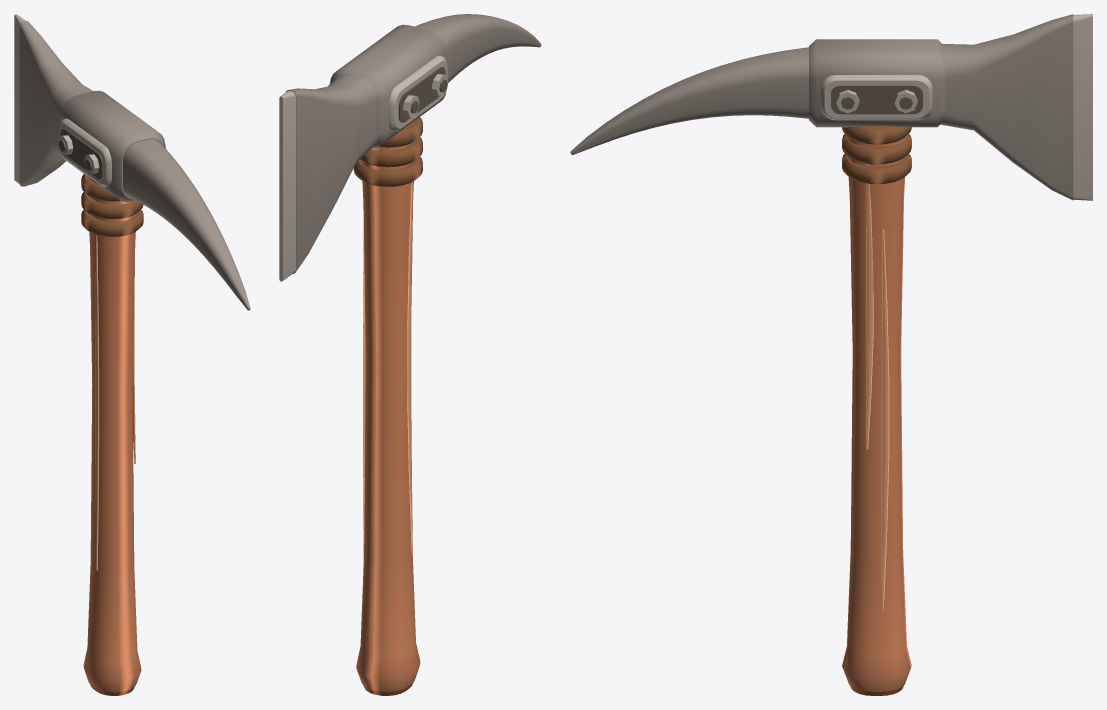
File: pioche_hache_pierre.glb
The picture shows the model from 3 angles, left to right: view 1: azimuth 30°, elevation 25°; view 2: azimuth 150°, elevation 25°; view 3: azimuth 270°, elevation 25°; orthographic projection. The views are drawn at different scales.
Visible parts, largest first — view 1: manche, lame, pic, oeil, bague; view 2: manche, lame, oeil, pic, bague; view 3: manche, lame, oeil, pic, bague.
Part boxes in pixels (bbox=[...]): manche: bbox=[83, 176, 141, 695]; lame: bbox=[14, 14, 92, 186]; pic: bbox=[123, 139, 250, 310]; oeil: bbox=[58, 90, 166, 202]; bague: bbox=[81, 174, 143, 236]; manche: bbox=[356, 120, 420, 695]; lame: bbox=[279, 73, 377, 281]; oeil: bbox=[329, 24, 448, 148]; pic: bbox=[415, 14, 541, 82]; bague: bbox=[353, 117, 422, 186]; manche: bbox=[842, 126, 911, 695]; lame: bbox=[940, 14, 1092, 200]; oeil: bbox=[809, 39, 944, 127]; pic: bbox=[570, 47, 808, 155]; bague: bbox=[842, 126, 911, 184].
Bounding box in the file's own units: 0.1 × 0.7645 × 0.5386.
